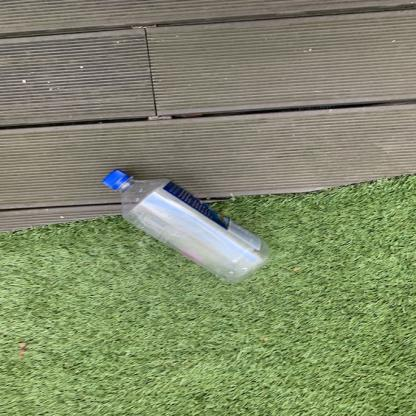trash: (100, 166, 278, 284)
